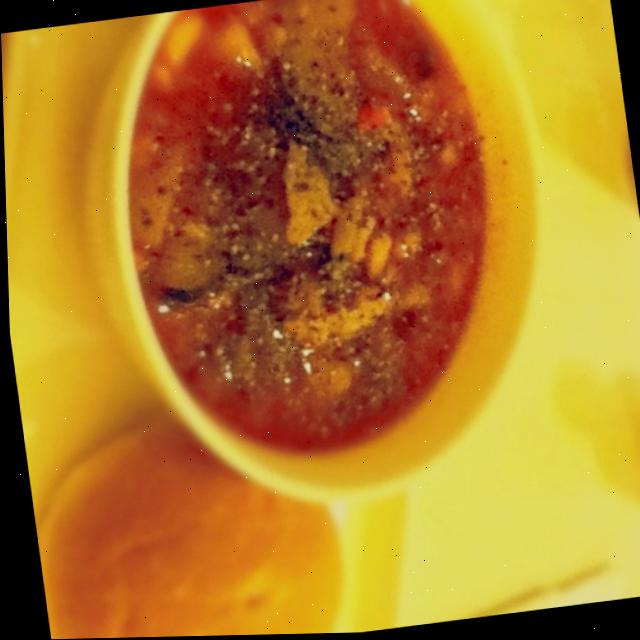汤锅炖物: (77, 0, 591, 532)
